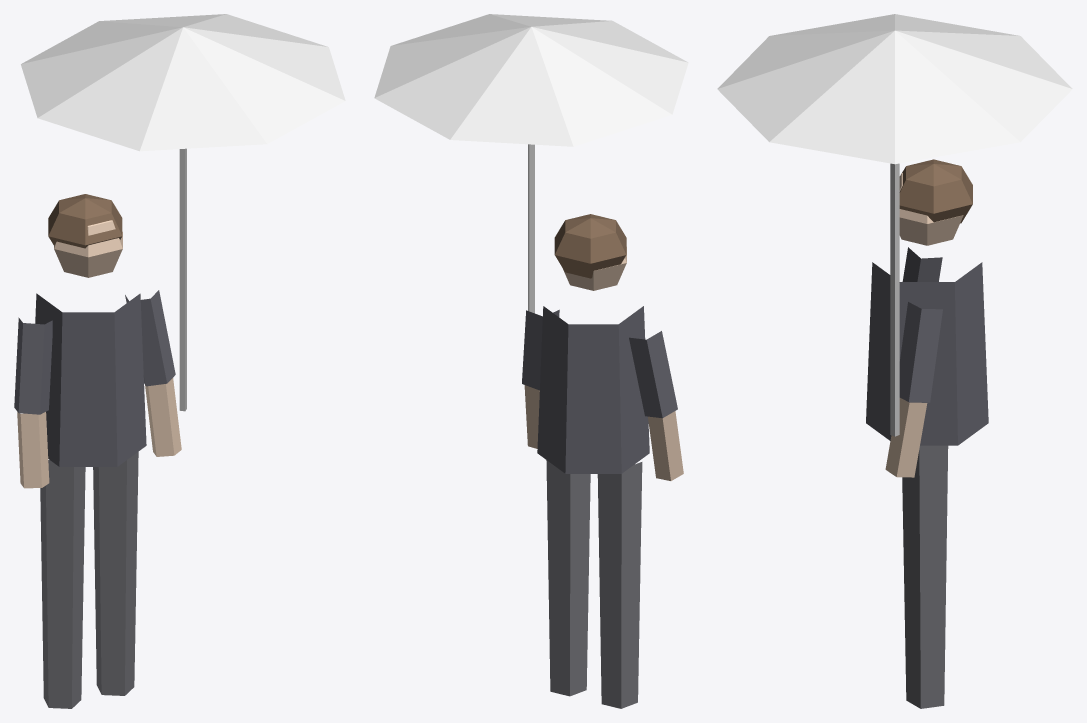
File: person_umbrella.glb
The picture shows the model from 3 angles, left to right: view 1: azimuth 30°, elevation 25°; view 2: azimuth 150°, elevation 25°; view 3: azimuth 270°, elevation 25°; orthographic projection. The views are drawn at different scales.
Parts seen in each view (by area): view 1: person_umbrella; view 2: person_umbrella; view 3: person_umbrella.
Part boxes in pixels (x1,y1,x2,y2): person_umbrella: (14, 14, 345, 708); person_umbrella: (374, 14, 688, 708); person_umbrella: (717, 14, 1072, 708).
Size of the model in its own units: 1.15 by 2.38 by 1.1.
